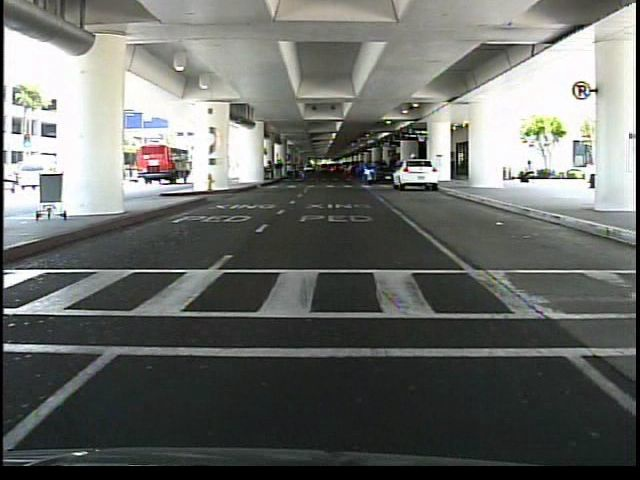person: (513, 157, 538, 190)
